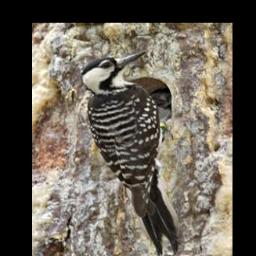Woodpecker: (80, 50, 182, 256)
